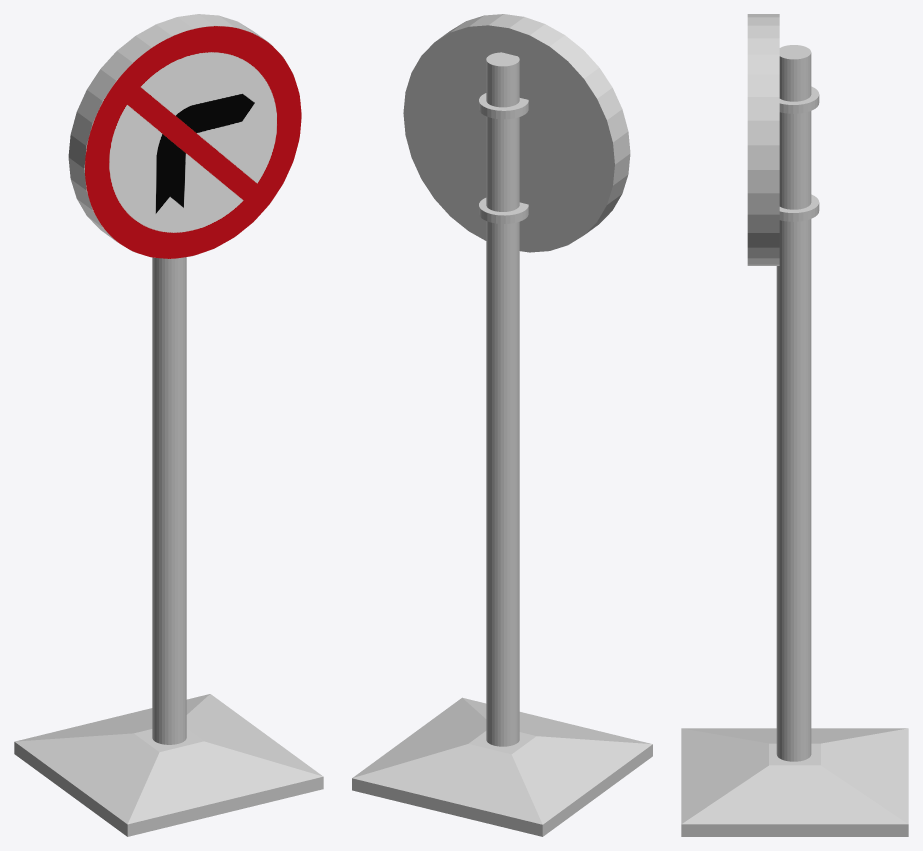
Rendered from saga_donulmez.dae.
3 renders of one model, left to right at view 1: azimuth 30°, elevation 25°; view 2: azimuth 150°, elevation 25°; view 3: azimuth 270°, elevation 25°, orthographic. The views are drawn at different scales.
Parts seen in each view (by area): view 1: Cylinder.001; view 2: Cylinder.001; view 3: Cylinder.001.
Part boxes in pixels (x1=…): Cylinder.001: x1=14, y1=14, x2=323, y2=836; Cylinder.001: x1=352, y1=14, x2=652, y2=836; Cylinder.001: x1=681, y1=14, x2=908, y2=836.
Size of the model in its own units: 0.83 by 0.7483 by 2.77.
Materials: 2 (1 with a texture image).
